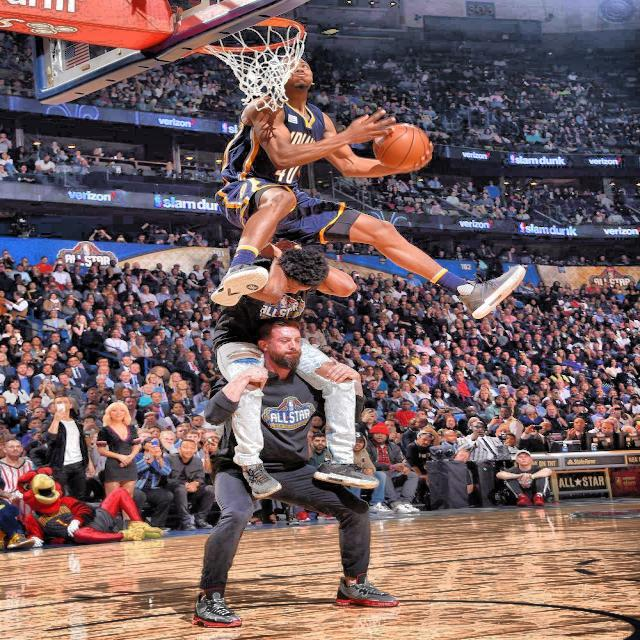board: (374, 125, 429, 170)
rim: (202, 16, 306, 108)
